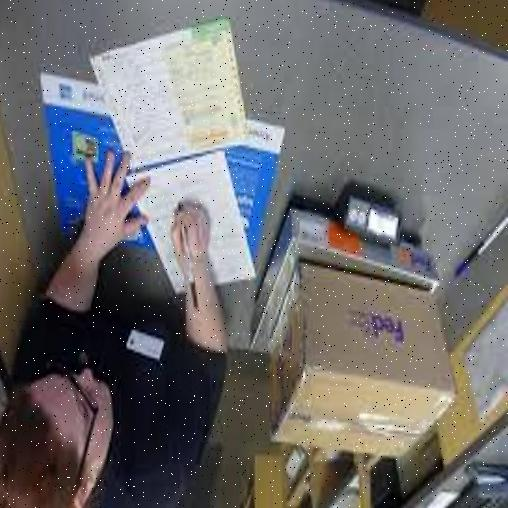FedEx: (243, 257, 453, 456)
